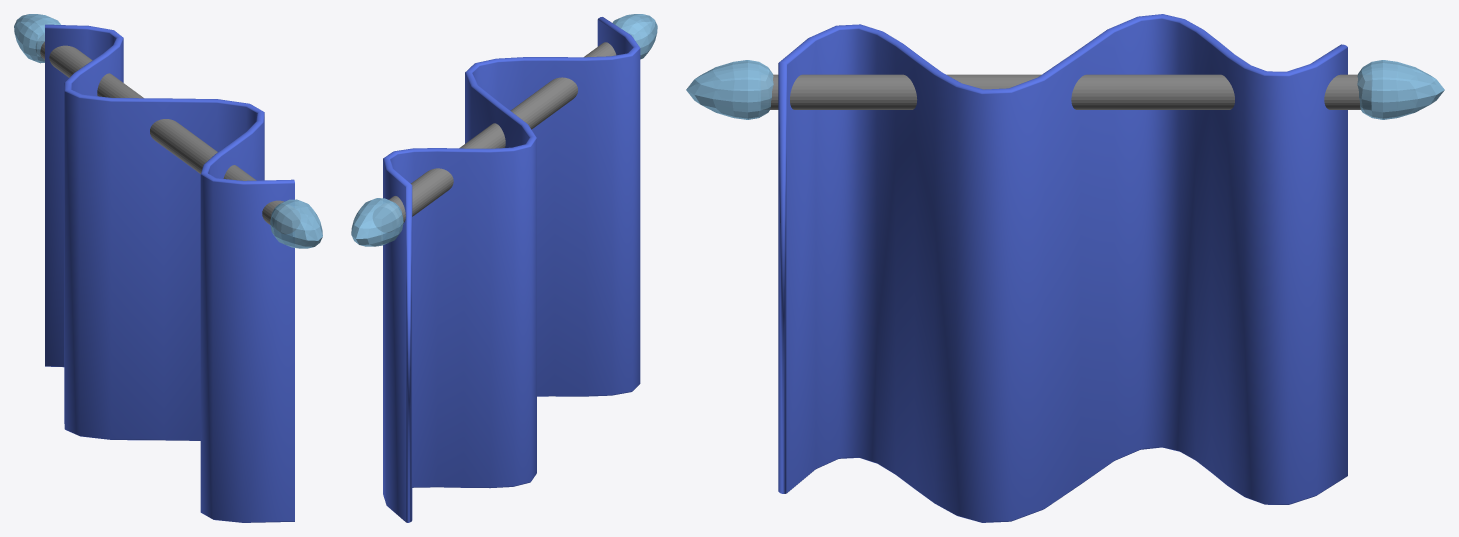
Rendered from cortina.fbx.
3 renders of one model, left to right at view 1: azimuth 30°, elevation 25°; view 2: azimuth 150°, elevation 25°; view 3: azimuth 270°, elevation 25°, orthographic. The views are drawn at different scales.
Visible parts, largest first — view 1: cortina; view 2: cortina; view 3: cortina.
Part boxes in pixels (x1,y1,x2,y2): cortina: (14, 14, 322, 522); cortina: (351, 14, 657, 522); cortina: (686, 14, 1444, 522).
Size of the model in its own units: 1.18 by 3 by 4.78.
